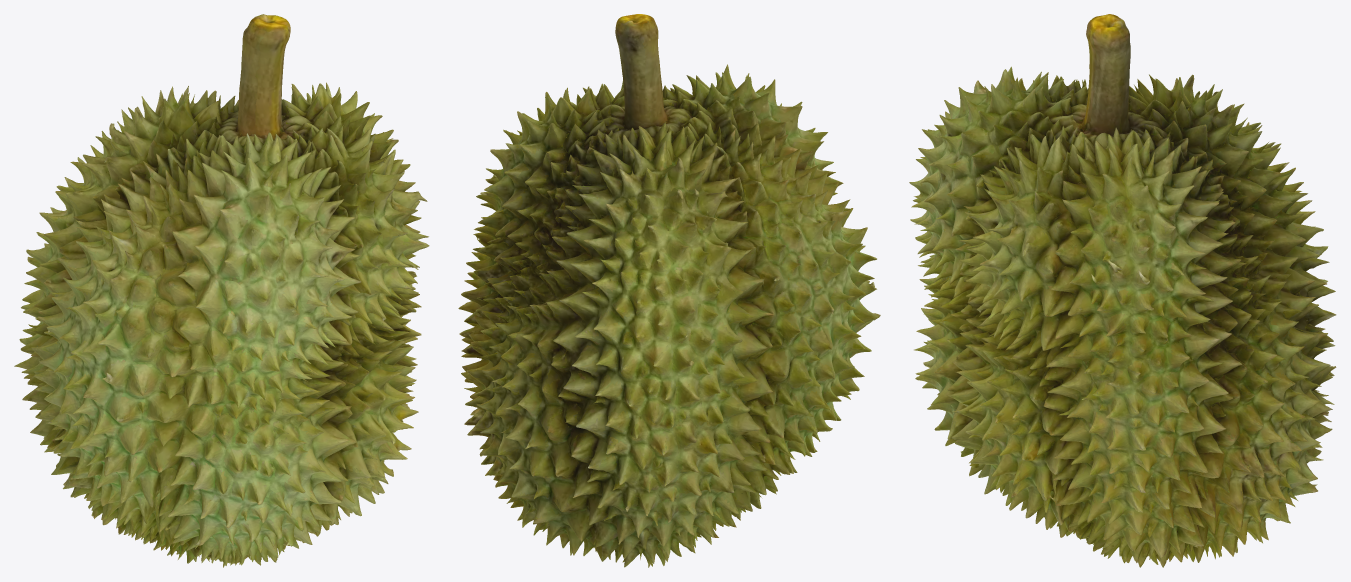
Rendered from durian.glb.
3 views of the same model, side by side, from view 1: azimuth 30°, elevation 25°; view 2: azimuth 150°, elevation 25°; view 3: azimuth 270°, elevation 25° (orthographic). The views are drawn at different scales.
Visible parts, largest first — view 1: fruitai_marime_reala; view 2: fruitai_marime_reala; view 3: fruitai_marime_reala.
Boxes of the visible parts, bbox=[...] form: fruitai_marime_reala: bbox=[14, 14, 429, 567]; fruitai_marime_reala: bbox=[458, 14, 880, 567]; fruitai_marime_reala: bbox=[909, 14, 1336, 567].
Bounding box in the file's own units: 0.1841 × 0.25 × 0.1779.
1 material, 1 textured.
